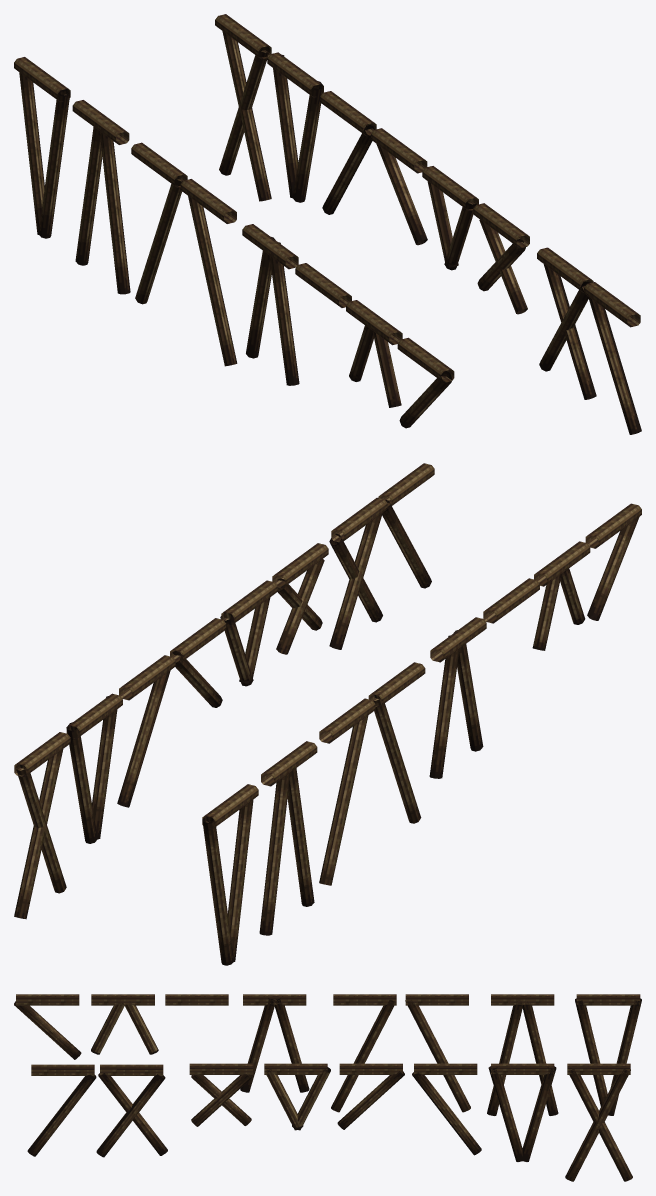
Rendered from EnvMdrMD_Wilderness_B_Loop.FBX.
The picture shows the model from 3 angles, top to bottom: view 1: azimuth 30°, elevation 25°; view 2: azimuth 150°, elevation 25°; view 3: azimuth 270°, elevation 25°; orthographic projection. The views are drawn at different scales.
Parts seen in each view (by area): view 1: EnvMdrMD_Wilderness_B_Loop_H4_D, EnvMdrMD_Wilderness_B_Loop_H4_E, EnvMdrMD_Wilderness_B_Loop_H4_A, EnvMdrMD_Wilderness_B_Loop_H3_D, EnvMdrMD_Wilderness_B_Loop_H3_E, EnvMdrMD_Wilderness_B_Loop_H3_A, EnvMdrMD_Wilderness_B_Loop_H4_B, EnvMdrMD_Wilderness_B_Loop_H3_C, EnvMdrMD_Wilderness_B_Loop_H2_A, EnvMdrMD_Wilderness_B_Loop_H2_E, EnvMdrMD_Wilderness_B_Loop_H2_D, EnvMdrMD_Wilderness_B_Loop_H4_C (+4 smaller); view 2: EnvMdrMD_Wilderness_B_Loop_H4_D, EnvMdrMD_Wilderness_B_Loop_H4_E, EnvMdrMD_Wilderness_B_Loop_H4_A, EnvMdrMD_Wilderness_B_Loop_H3_D, EnvMdrMD_Wilderness_B_Loop_H3_E, EnvMdrMD_Wilderness_B_Loop_H3_A, EnvMdrMD_Wilderness_B_Loop_H4_C, EnvMdrMD_Wilderness_B_Loop_H2_A, EnvMdrMD_Wilderness_B_Loop_H3_B, EnvMdrMD_Wilderness_B_Loop_H2_E, EnvMdrMD_Wilderness_B_Loop_H2_D, EnvMdrMD_Wilderness_B_Loop_H4_B (+4 smaller); view 3: EnvMdrMD_Wilderness_B_Loop_H4_A, EnvMdrMD_Wilderness_B_Loop_H3_A, EnvMdrMD_Wilderness_B_Loop_H3_E, EnvMdrMD_Wilderness_B_Loop_H4_D, EnvMdrMD_Wilderness_B_Loop_H4_E, EnvMdrMD_Wilderness_B_Loop_H3_D, EnvMdrMD_Wilderness_B_Loop_H2_A, EnvMdrMD_Wilderness_B_Loop_H2_E, EnvMdrMD_Wilderness_B_Loop_H2_D, EnvMdrMD_Wilderness_B_Loop_H4_C, EnvMdrMD_Wilderness_B_Loop_H4_B, EnvMdrMD_Wilderness_B_Loop_H3_C (+4 smaller).
Part boxes in pixels (x1,y1,x2,y2): EnvMdrMD_Wilderness_B_Loop_H4_D: [72, 100, 130, 294]; EnvMdrMD_Wilderness_B_Loop_H4_E: [14, 57, 70, 238]; EnvMdrMD_Wilderness_B_Loop_H4_A: [215, 14, 271, 201]; EnvMdrMD_Wilderness_B_Loop_H3_D: [242, 224, 299, 385]; EnvMdrMD_Wilderness_B_Loop_H3_E: [267, 52, 323, 202]; EnvMdrMD_Wilderness_B_Loop_H3_A: [537, 247, 596, 399]; EnvMdrMD_Wilderness_B_Loop_H4_B: [180, 179, 237, 366]; EnvMdrMD_Wilderness_B_Loop_H3_C: [584, 282, 641, 434]; EnvMdrMD_Wilderness_B_Loop_H2_A: [473, 203, 529, 314]; EnvMdrMD_Wilderness_B_Loop_H2_E: [422, 166, 478, 270]; EnvMdrMD_Wilderness_B_Loop_H2_D: [346, 300, 402, 407]; EnvMdrMD_Wilderness_B_Loop_H4_C: [131, 142, 187, 304]; EnvMdrMD_Wilderness_B_Loop_H4_D: [259, 741, 317, 935]; EnvMdrMD_Wilderness_B_Loop_H4_E: [202, 784, 258, 965]; EnvMdrMD_Wilderness_B_Loop_H4_A: [14, 732, 70, 919]; EnvMdrMD_Wilderness_B_Loop_H3_D: [429, 617, 486, 778]; EnvMdrMD_Wilderness_B_Loop_H3_E: [66, 693, 122, 843]; EnvMdrMD_Wilderness_B_Loop_H3_A: [329, 497, 387, 649]; EnvMdrMD_Wilderness_B_Loop_H4_C: [319, 698, 375, 885]; EnvMdrMD_Wilderness_B_Loop_H2_A: [272, 543, 328, 654]; EnvMdrMD_Wilderness_B_Loop_H3_B: [117, 655, 175, 807]; EnvMdrMD_Wilderness_B_Loop_H2_E: [220, 580, 277, 686]; EnvMdrMD_Wilderness_B_Loop_H2_D: [532, 541, 590, 650]; EnvMdrMD_Wilderness_B_Loop_H4_B: [368, 662, 425, 823]; EnvMdrMD_Wilderness_B_Loop_H4_A: [565, 1063, 632, 1181]; EnvMdrMD_Wilderness_B_Loop_H3_A: [96, 1064, 167, 1157]; EnvMdrMD_Wilderness_B_Loop_H3_E: [488, 1063, 556, 1161]; EnvMdrMD_Wilderness_B_Loop_H4_D: [487, 994, 558, 1115]; EnvMdrMD_Wilderness_B_Loop_H4_E: [575, 994, 641, 1115]; EnvMdrMD_Wilderness_B_Loop_H3_D: [240, 994, 309, 1092]; EnvMdrMD_Wilderness_B_Loop_H2_A: [189, 1063, 253, 1126]; EnvMdrMD_Wilderness_B_Loop_H2_E: [264, 1063, 330, 1130]; EnvMdrMD_Wilderness_B_Loop_H2_D: [91, 994, 158, 1054]; EnvMdrMD_Wilderness_B_Loop_H4_C: [405, 994, 470, 1112]; EnvMdrMD_Wilderness_B_Loop_H4_B: [331, 994, 396, 1112]; EnvMdrMD_Wilderness_B_Loop_H3_C: [27, 1064, 96, 1156].
Bounding box in the file's own units: 564 × 413 × 1981.
1 material, 1 textured.
